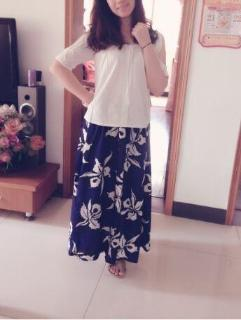short sleeve top: (54, 26, 169, 128)
skirt: (67, 110, 152, 265)
